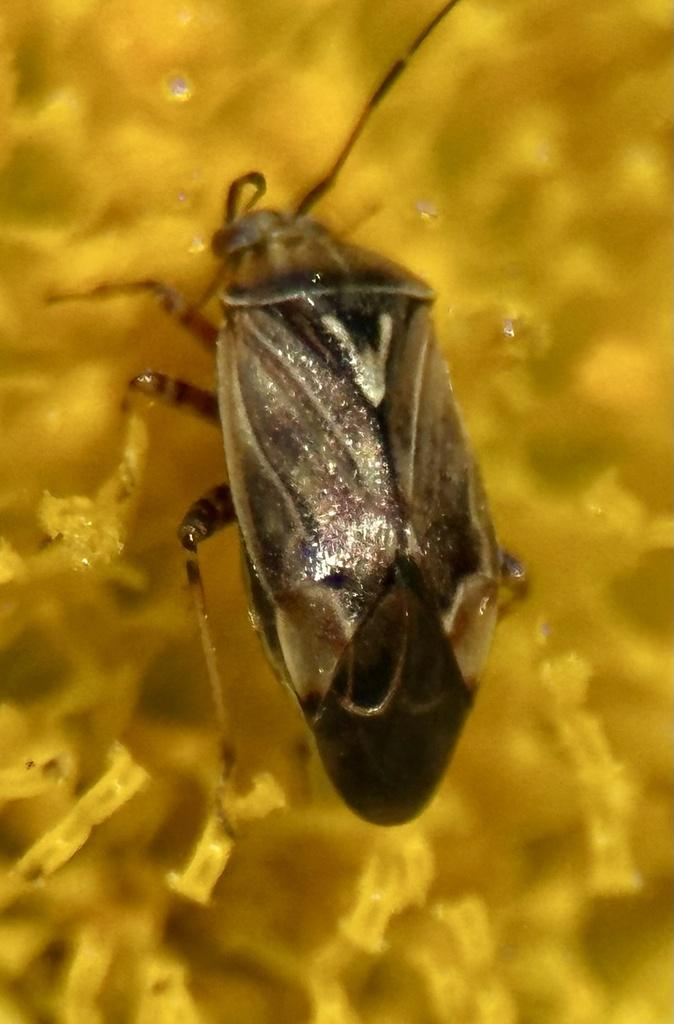plant_bugs: (0, 6, 674, 957)
